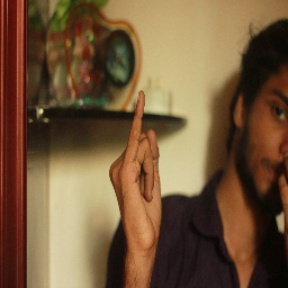I: (108, 90, 166, 251)
